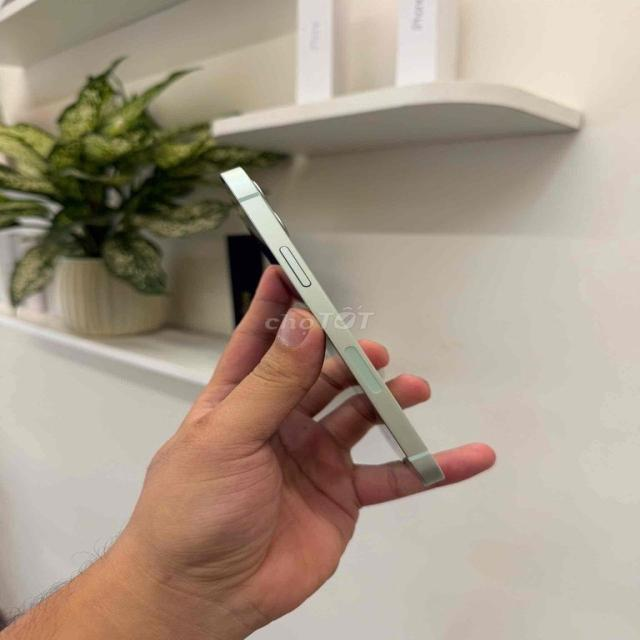gen_12_13: (212, 152, 446, 498)
